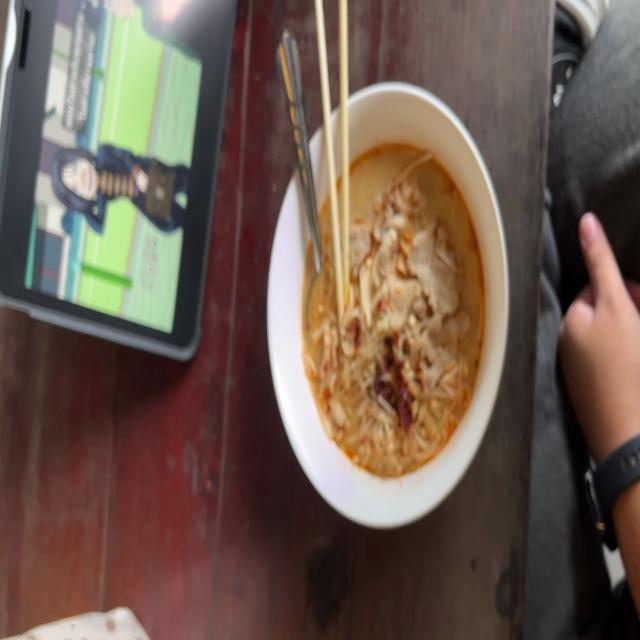noodle: (267, 79, 514, 529)
